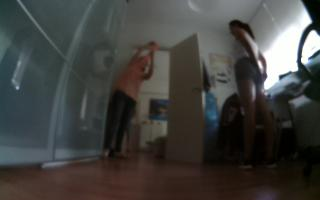person: (225, 17, 284, 173), (100, 36, 158, 161)
